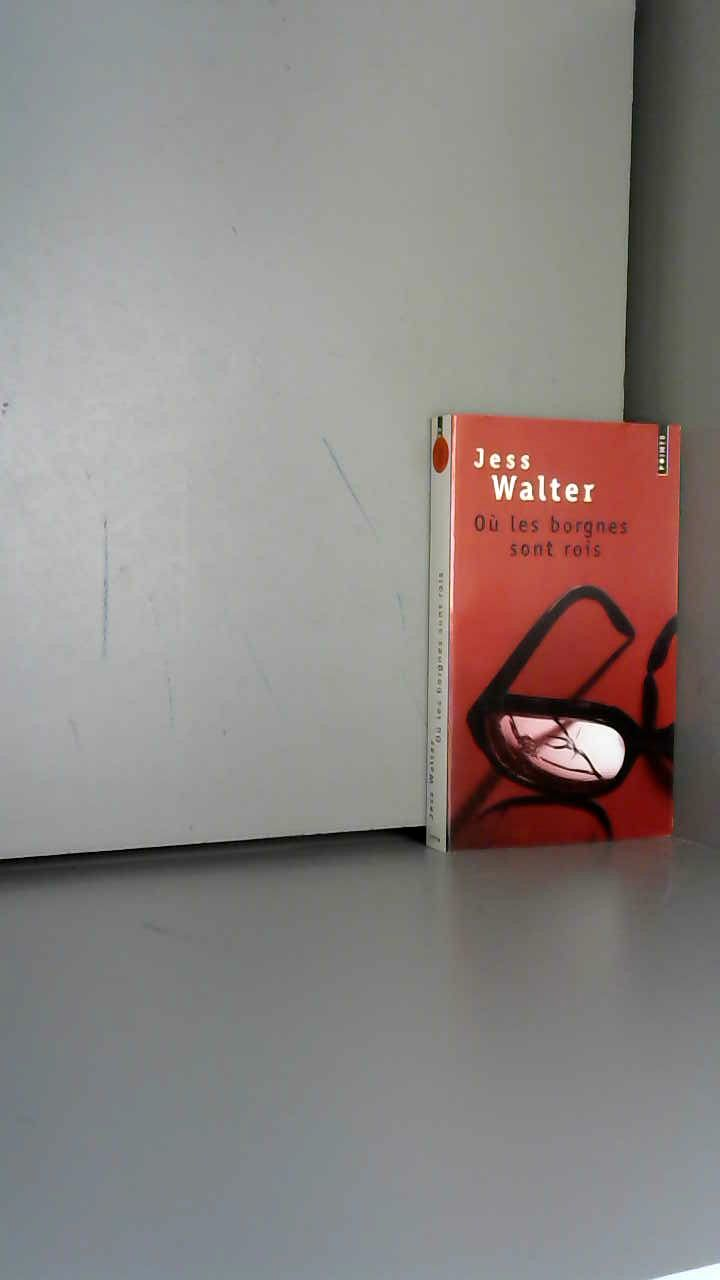book: (420, 380, 718, 868)
